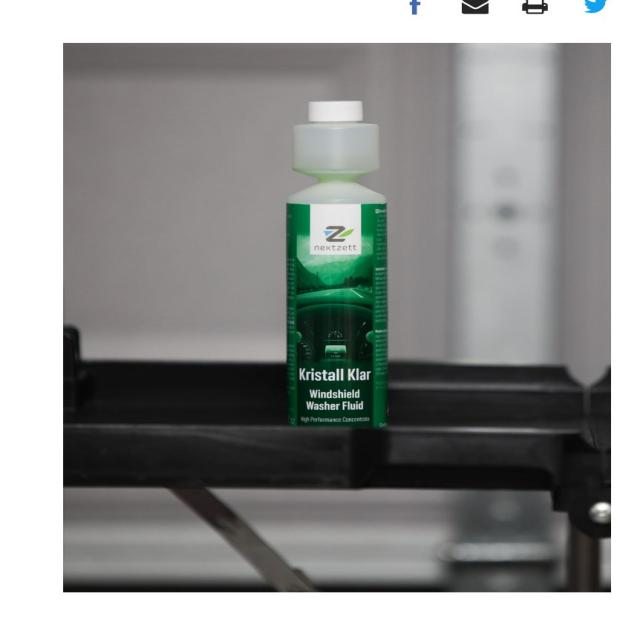winwinshield_washer: (281, 96, 395, 434)
